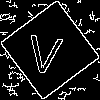V: (25, 25, 65, 75)
